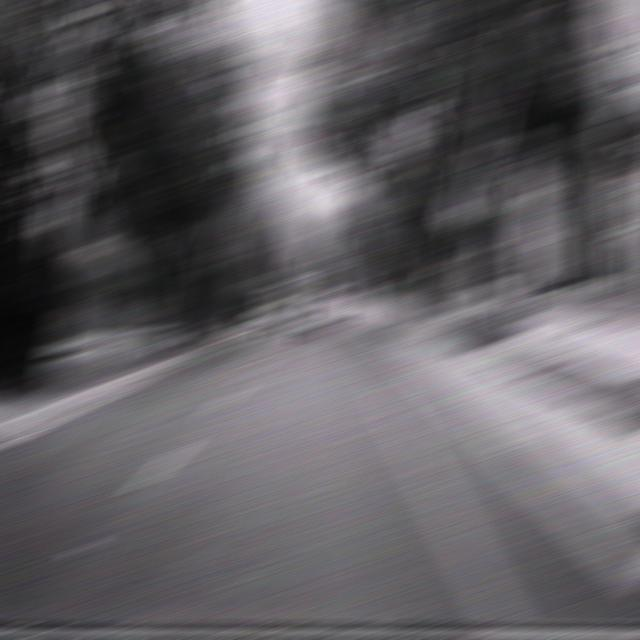pedestrianCrossing: (440, 188, 479, 226)
